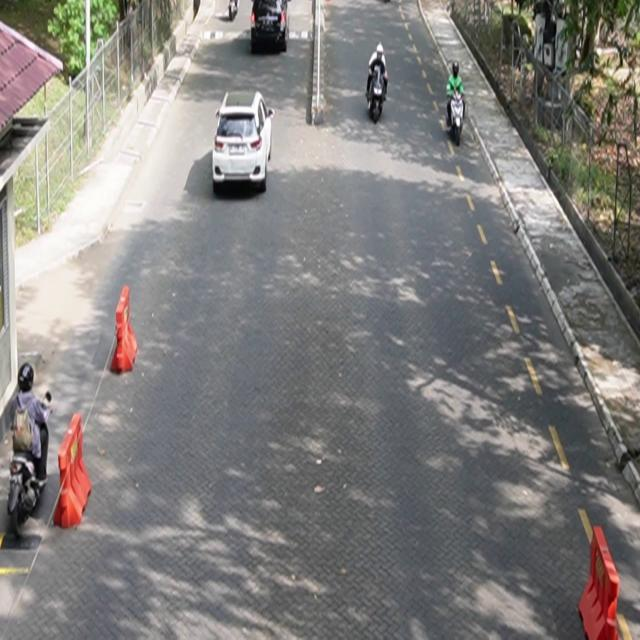car: (213, 91, 276, 194), (251, 1, 289, 54)
